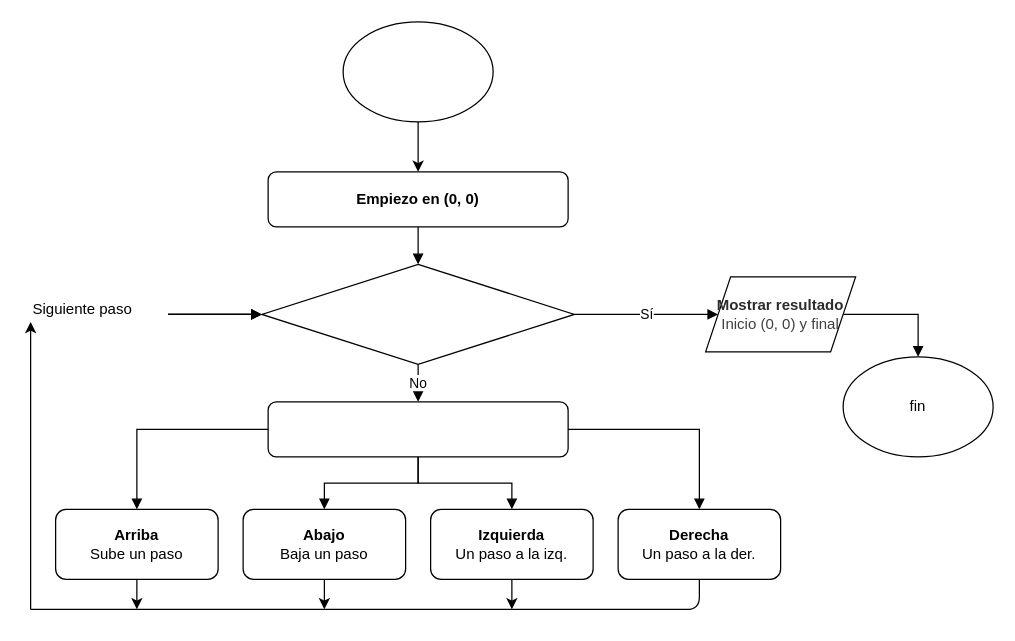
This 1015x641 diagram has some shape labels left out. Each missing label, with the centre of its shape:
"Elegir una dirección al azar" belongs at pixel 417 429.
"inicio" belongs at pixel 417 71.
"ya dio 100 pasos" belongs at pixel 417 313.
